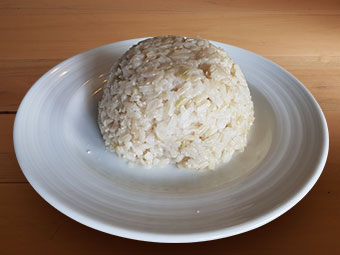plain rice: (106, 34, 245, 169)
